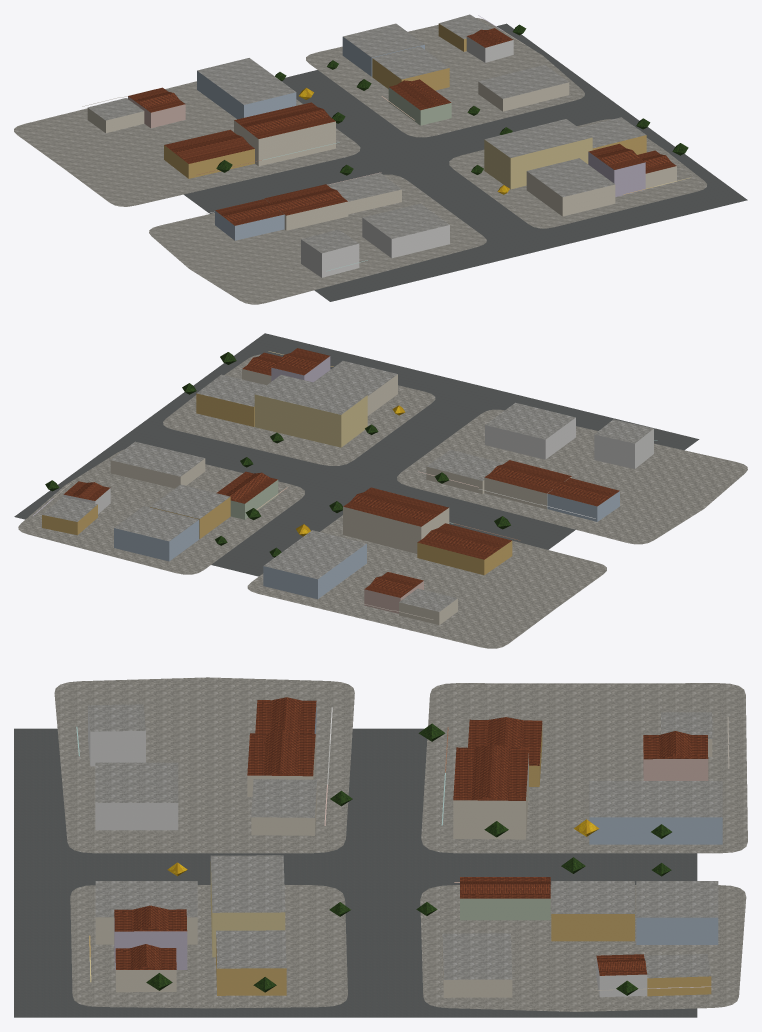
File: cidade_S02_01_lod.gltf
The picture shows the model from 3 angles, top to bottom: view 1: azimuth 30°, elevation 25°; view 2: azimuth 150°, elevation 25°; view 3: azimuth 270°, elevation 25°; orthographic projection. The views are drawn at different scales.
Visible parts, largest first — view 1: S02_01_Chao_LOD2, S02_01_Edificios_LOD1, S02_01_Silhueta_LOD2, S02_01_Vegetacao_LOD2; view 2: S02_01_Chao_LOD2, S02_01_Edificios_LOD1, S02_01_Silhueta_LOD2, S02_01_Vegetacao_LOD2; view 3: S02_01_Chao_LOD2, S02_01_Edificios_LOD1, S02_01_Silhueta_LOD2, S02_01_Vegetacao_LOD2.
Boxes of the visible parts, x1=… form: S02_01_Chao_LOD2: x1=14, y1=18, x2=747, y2=304; S02_01_Edificios_LOD1: x1=82, y1=14, x2=690, y2=277; S02_01_Silhueta_LOD2: x1=128, y1=28, x2=676, y2=240; S02_01_Vegetacao_LOD2: x1=216, y1=24, x2=688, y2=194; S02_01_Chao_LOD2: x1=14, y1=333, x2=747, y2=648; S02_01_Edificios_LOD1: x1=33, y1=351, x2=657, y2=624; S02_01_Silhueta_LOD2: x1=63, y1=348, x2=619, y2=613; S02_01_Vegetacao_LOD2: x1=45, y1=352, x2=510, y2=557; S02_01_Chao_LOD2: x1=14, y1=677, x2=747, y2=1017; S02_01_Edificios_LOD1: x1=76, y1=697, x2=729, y2=997; S02_01_Silhueta_LOD2: x1=114, y1=700, x2=708, y2=996; S02_01_Vegetacao_LOD2: x1=146, y1=723, x2=671, y2=995.
Size of the model in its own units: 117 by 7.37 by 107.
Materials: 19 (19 with a texture image).
